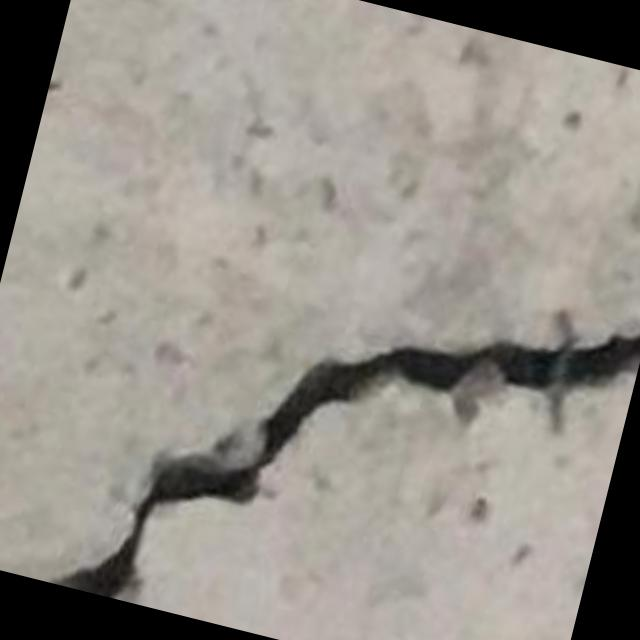crack: (53, 315, 639, 599)
